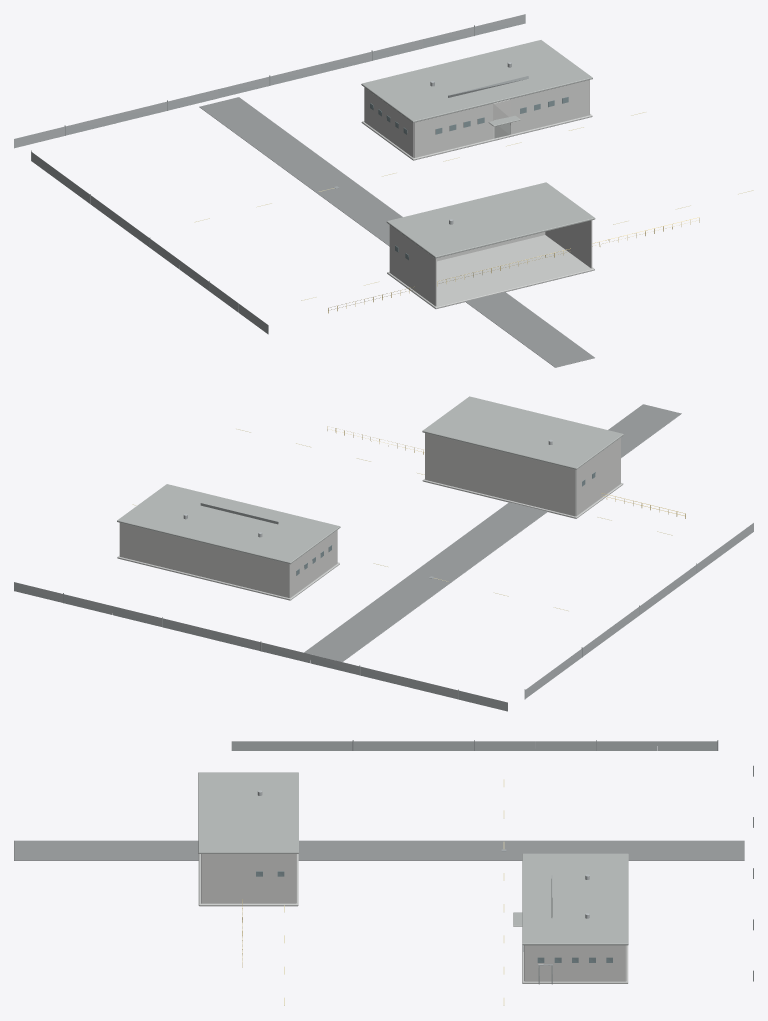
3 views of the same model, one above another, from view 1: azimuth 30°, elevation 25°; view 2: azimuth 150°, elevation 25°; view 3: azimuth 270°, elevation 25° (orthographic). The views are drawn at different scales.
Visible parts, largest first — view 1: render-batch-4, render-batch-7, render-batch-1, render-batch-5, render-batch-6, render-batch-9; view 2: render-batch-7, render-batch-4, render-batch-1, render-batch-5, render-batch-6; view 3: render-batch-4, render-batch-1, render-batch-7, render-batch-5, render-batch-6.
Part boxes in pixels (bbox=[...]): render-batch-4: bbox=[361, 40, 595, 258]; render-batch-7: bbox=[364, 80, 592, 306]; render-batch-1: bbox=[199, 97, 594, 367]; render-batch-5: bbox=[14, 14, 525, 334]; render-batch-6: bbox=[361, 114, 594, 308]; render-batch-9: bbox=[328, 217, 699, 313]; render-batch-7: bbox=[119, 433, 620, 597]; render-batch-4: bbox=[117, 396, 623, 564]; render-batch-1: bbox=[304, 404, 681, 661]; render-batch-5: bbox=[14, 439, 753, 711]; render-batch-6: bbox=[117, 479, 623, 600]; render-batch-4: bbox=[198, 772, 628, 945]; render-batch-1: bbox=[14, 840, 744, 860]; render-batch-7: bbox=[201, 854, 626, 981]; render-batch-5: bbox=[231, 741, 717, 965]; render-batch-6: bbox=[198, 854, 628, 983].
Size of the model in its own units: 102 by 10.8 by 125.
